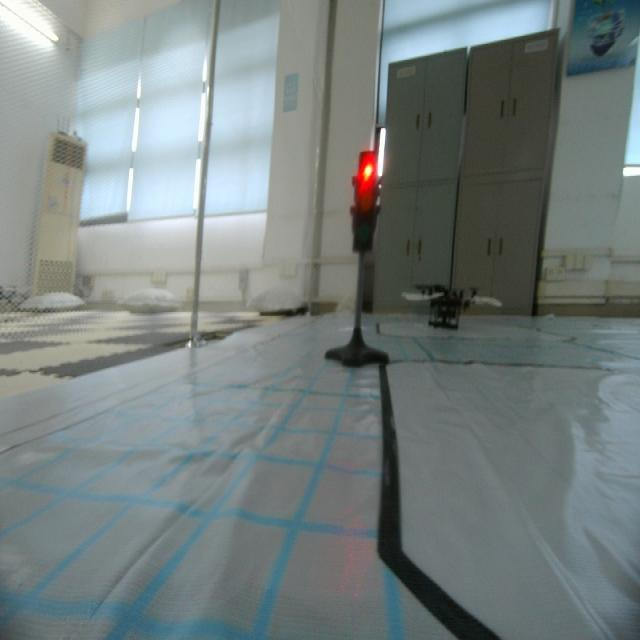red: (350, 148, 380, 259)
